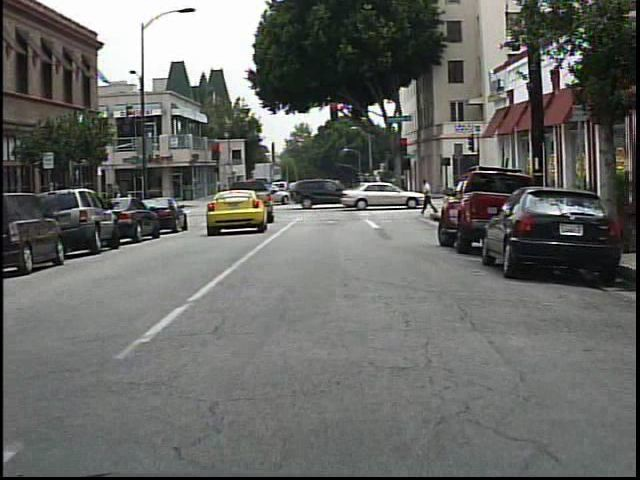person: (416, 174, 439, 218)
